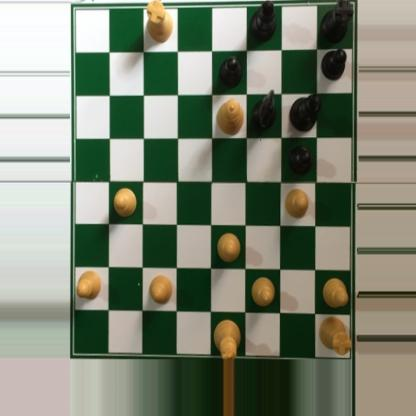black-bishop: (246, 0, 276, 44)
black-king: (288, 92, 321, 134)
black-knight: (249, 87, 274, 129)
black-pawn: (320, 47, 348, 80), (217, 55, 243, 89), (288, 145, 313, 175)
black-rook: (318, 0, 351, 47)
white-king: (209, 316, 241, 360)
white-pawn: (74, 266, 103, 300), (320, 277, 348, 310), (148, 272, 174, 306), (284, 186, 310, 220), (216, 231, 242, 264), (250, 276, 276, 309), (112, 187, 138, 219)
white-queen: (215, 98, 244, 137)
white-rook: (316, 312, 352, 356), (142, 0, 172, 44)
